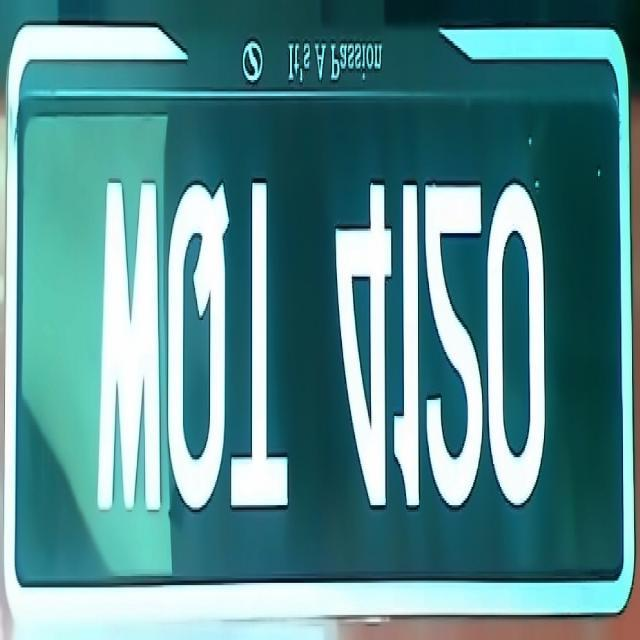car-plate: (6, 26, 634, 618)
